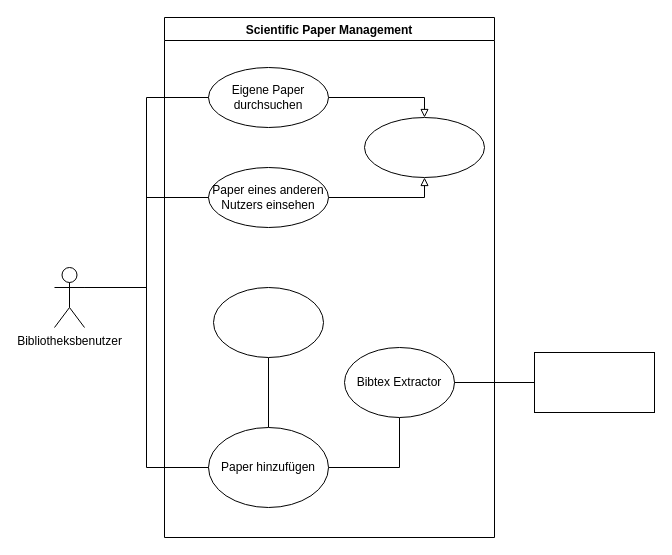
Image size: 672x555. Some labels were removed from this diagram. Here are the shapes that lost their labels. From the top down, the centre of each, then its label:
At (424,147): "Paper eines Nutzers durchsuchen".
At (268,322): "Keyword Extractor".
At (594,382): "arxiv.org API".
